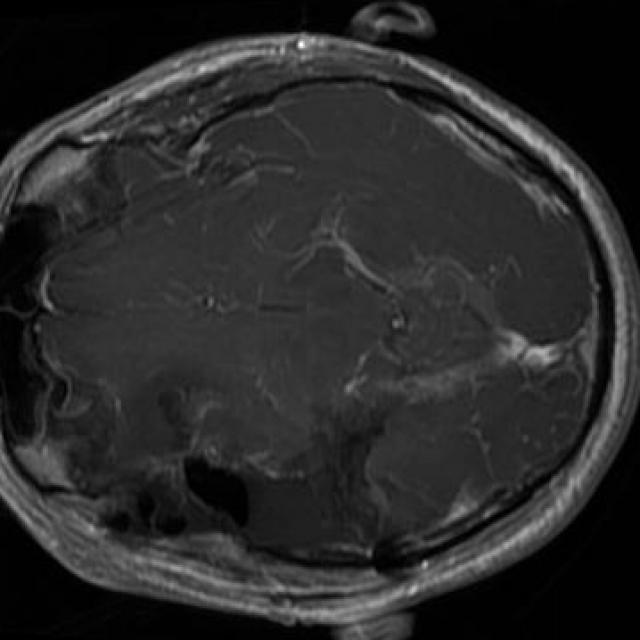glioma: (68, 369, 392, 565)
